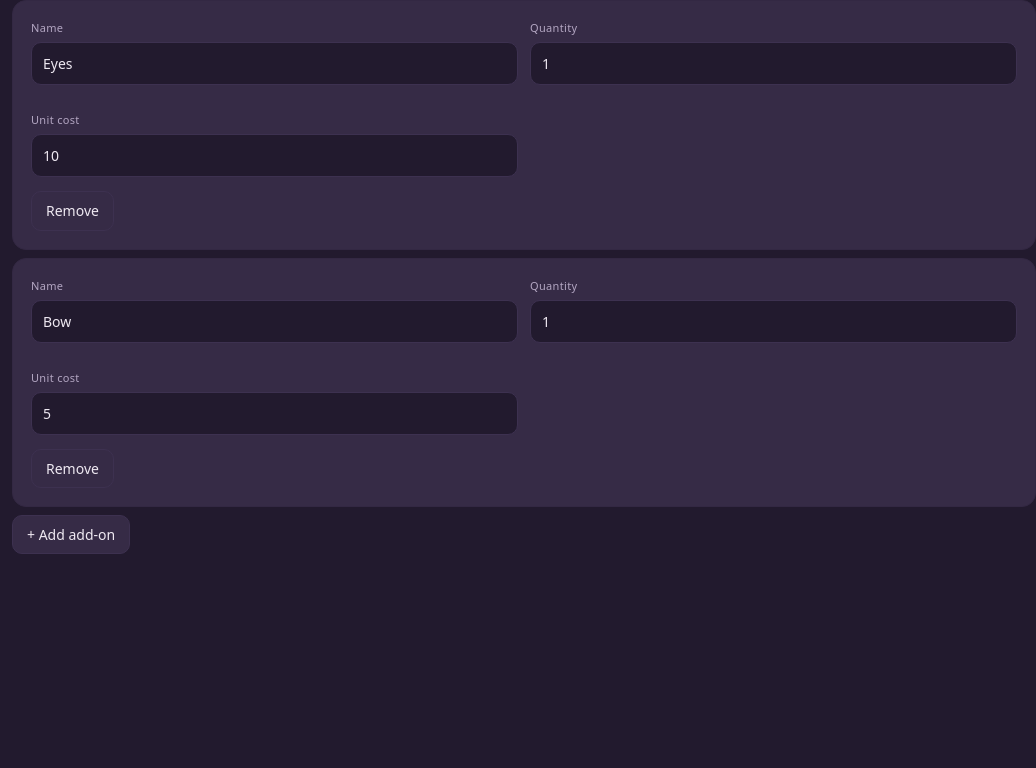
Test: AddOnsFields › Remove drops only that row
Click the button with aria-label "remove add-on 1: eyes": {"x": 72, "y": 211} [31, 192, 114, 231]
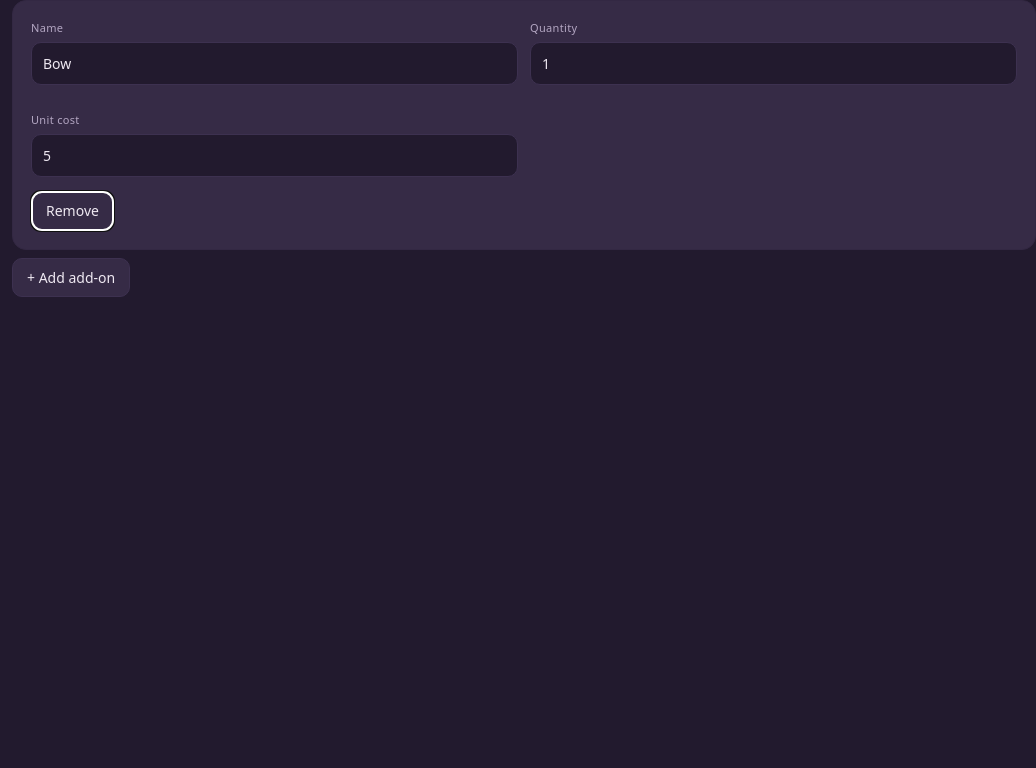
Check: the field showing "Eyes" is not shown
Check: the field showing "Bow" is shown, box [31, 42, 518, 85]
